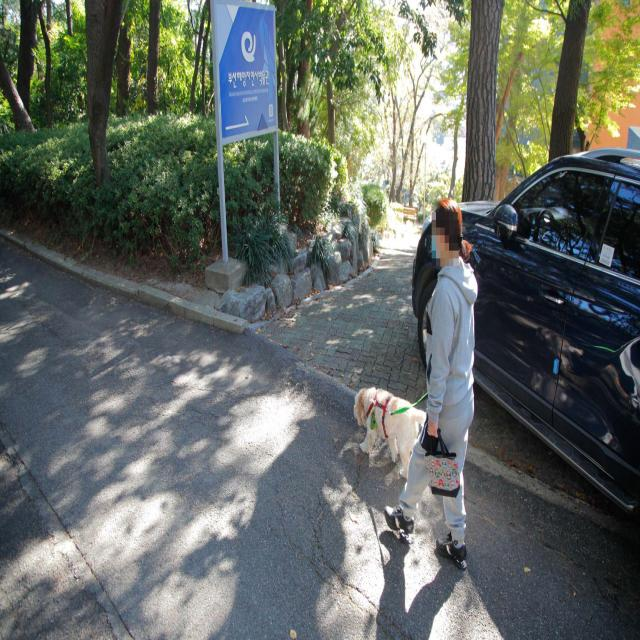Leashed_Dog: (354, 367, 449, 482)
